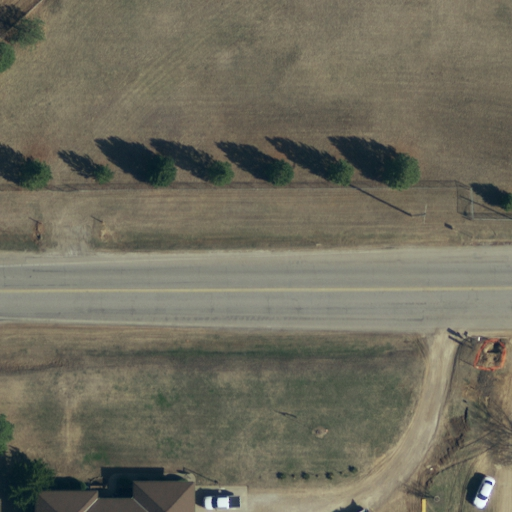DT: (405, 200, 431, 226)
